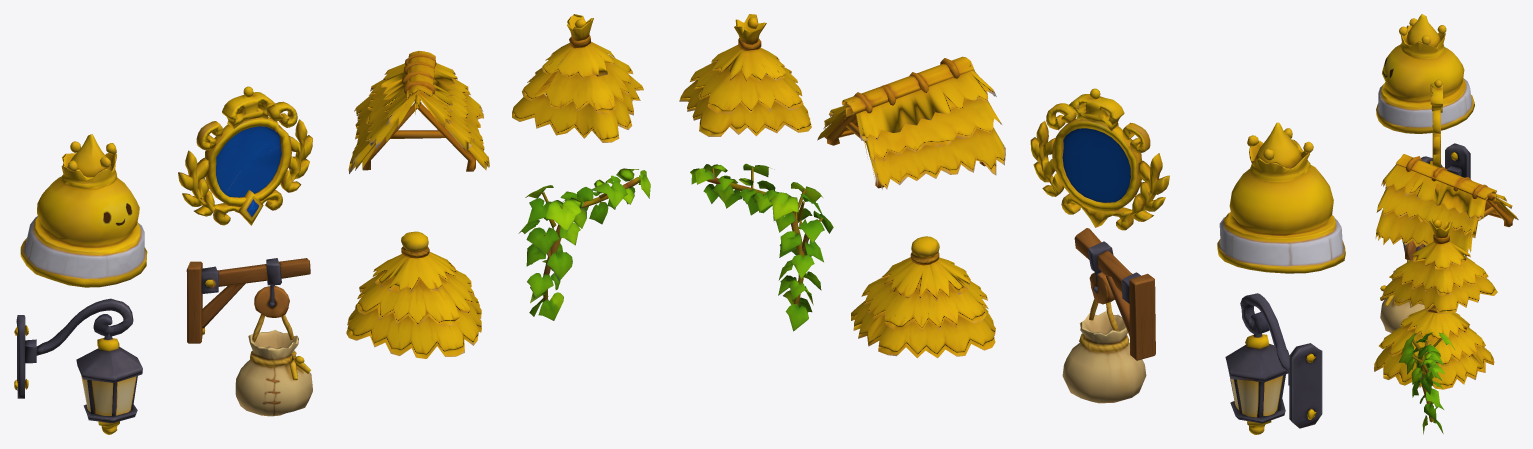
The model's file is sheet_source.glb.
3 views of the same model, side by side, from view 1: azimuth 30°, elevation 25°; view 2: azimuth 150°, elevation 25°; view 3: azimuth 270°, elevation 25° (orthographic). The views are drawn at different scales.
Visible parts, largest first — view 1: geometry_0; view 2: geometry_0; view 3: geometry_0.
Part boxes in pixels (left/top/right/bottom): geometry_0: left=14, top=14, right=650, bottom=434; geometry_0: left=679, top=14, right=1345, bottom=434; geometry_0: left=1374, top=14, right=1518, bottom=434.
Size of the model in its own units: 0.9463 by 0.4541 by 0.2388.
1 material, 1 textured.
